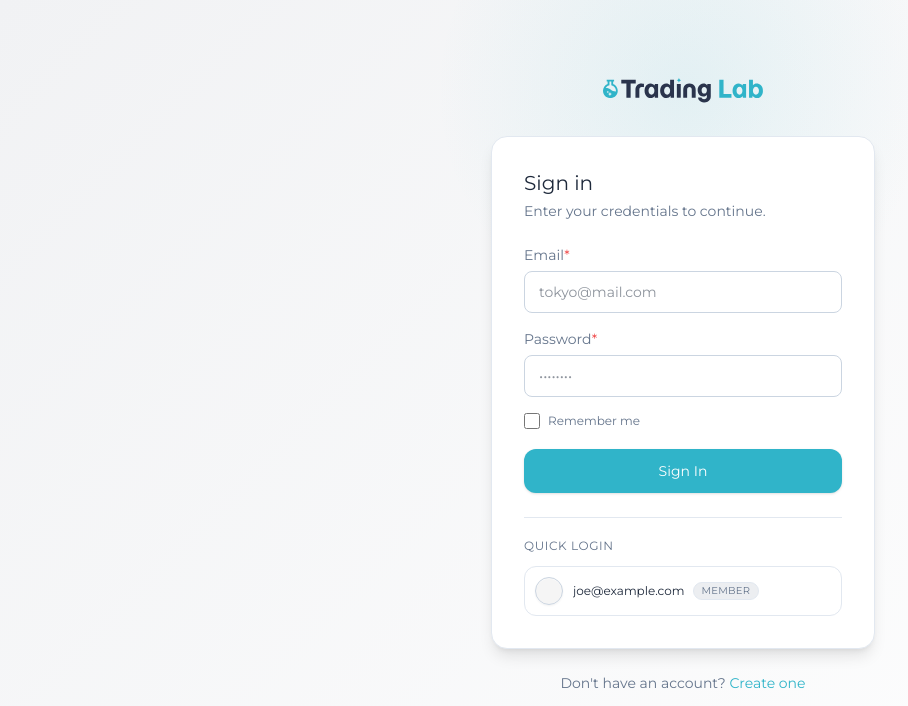
Scenario: LoginPage › populates email input when clicking a saved account without password
Click the text "joe@example.com" at {"x": 629, "y": 590}, box top-left (573, 582), bottom-right (684, 598)
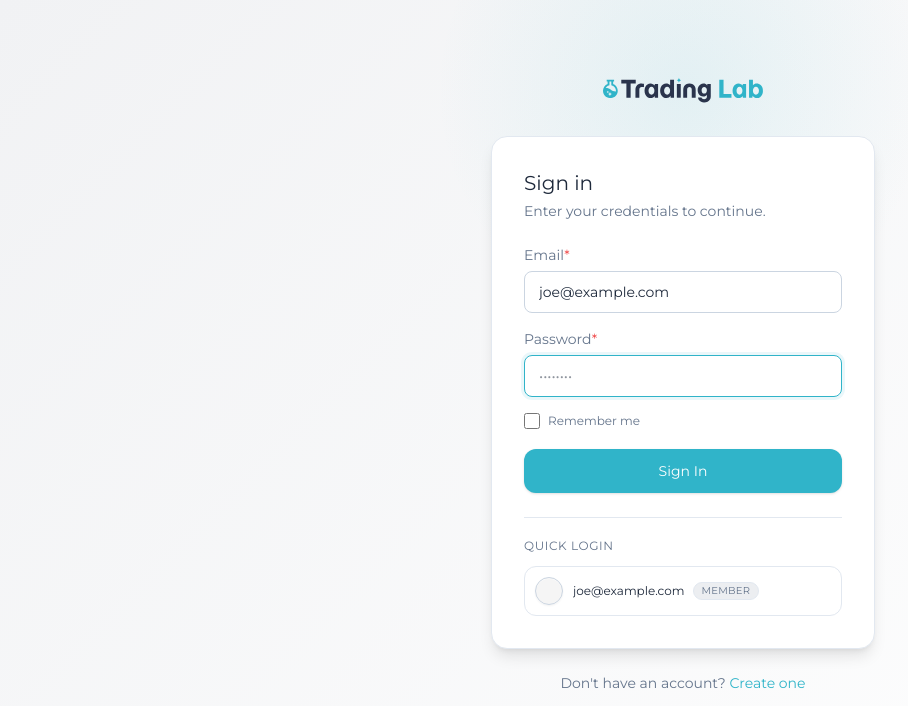
Expected: the field labelled "Email*" holds "joe@example.com", top-left (524, 270), bottom-right (842, 312)
